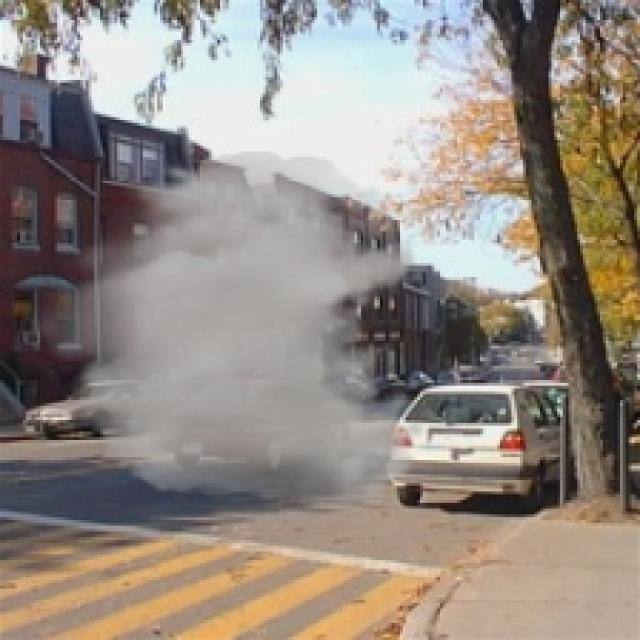smoke: (20, 152, 429, 512)
